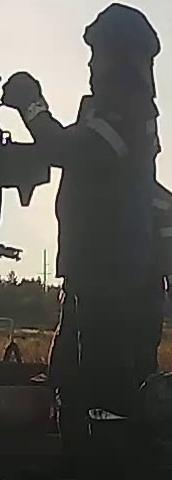gloves: (0, 70, 51, 128)
vest: (57, 87, 161, 303)
